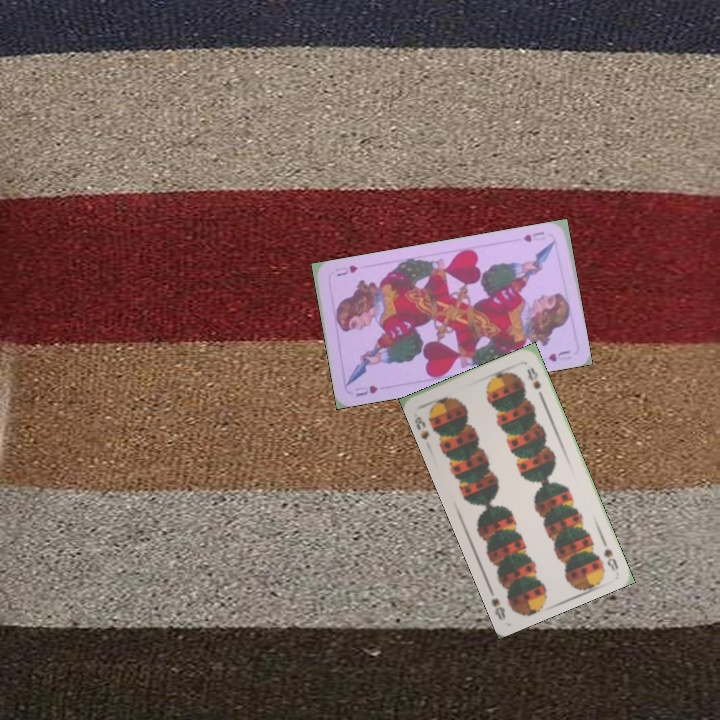HU: (351, 381, 381, 399), (519, 228, 548, 244)
S8: (598, 534, 621, 574), (411, 412, 432, 443)
